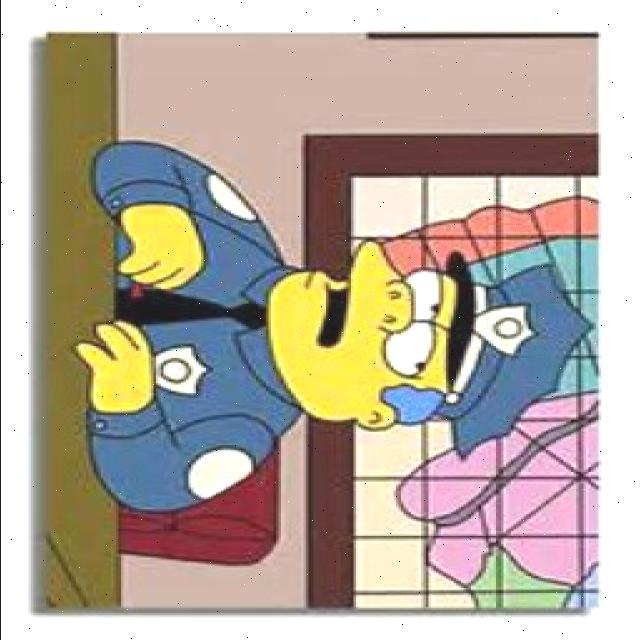Chief Wiggam: (258, 232, 592, 460)
